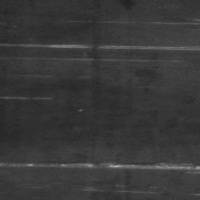scratches: (1, 158, 174, 176), (4, 37, 199, 52)
